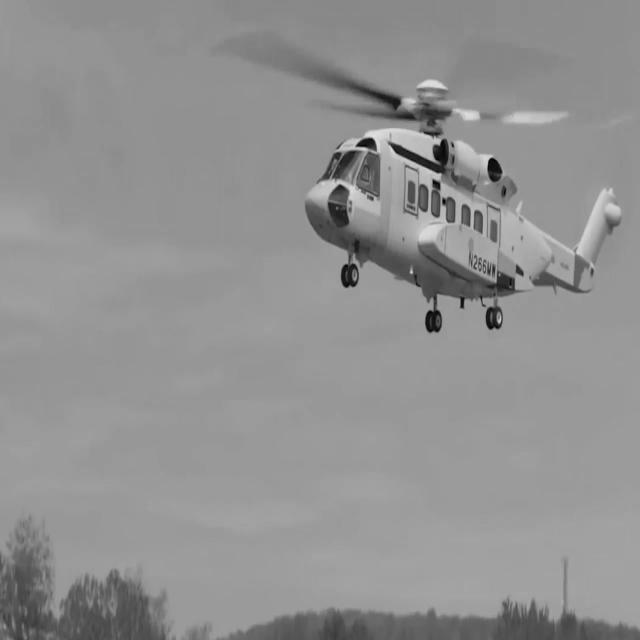helikopter: (278, 60, 636, 343)
